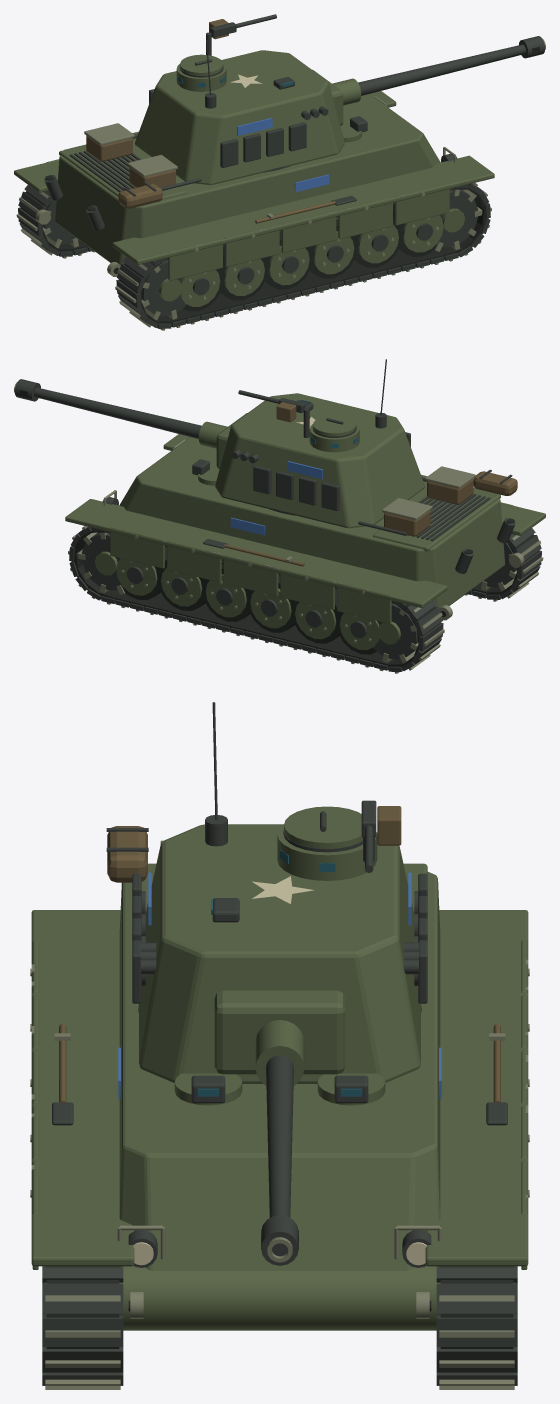
The model's file is heavy-tank.glb.
3 renders of one model, top to bottom at view 1: azimuth 30°, elevation 25°; view 2: azimuth 150°, elevation 25°; view 3: azimuth 270°, elevation 25°, orthographic. The views are drawn at different scales.
Visible parts, largest first — view 1: Armor, Steel, Tracks, EdgeSteel, Canvas, TeamColor; view 2: Armor, Steel, Tracks, EdgeSteel, Canvas, TeamColor; view 3: Armor, Steel, EdgeSteel, Canvas, Tracks, Markings.
Part boxes in pixels (box(x1,y1,x2,y2)): Armor: box(14, 50, 494, 306); Steel: box(18, 14, 544, 328); Tracks: box(20, 46, 539, 326); EdgeSteel: box(16, 38, 545, 330); Canvas: box(86, 19, 335, 223); TeamColor: box(237, 118, 329, 192); Armor: box(65, 393, 545, 650); Steel: box(15, 359, 541, 671); Tracks: box(20, 390, 539, 669); EdgeSteel: box(14, 382, 543, 673); Canvas: box(224, 402, 517, 566); TeamColor: box(230, 461, 322, 535); Armor: box(31, 806, 528, 1330); Steel: box(42, 702, 517, 1385); EdgeSteel: box(30, 840, 529, 1389); Canvas: box(59, 806, 500, 1102); Tracks: box(46, 1230, 513, 1348); Markings: box(133, 876, 426, 1265).
Size of the model in its own units: 8.16 by 3.91 by 3.7.
